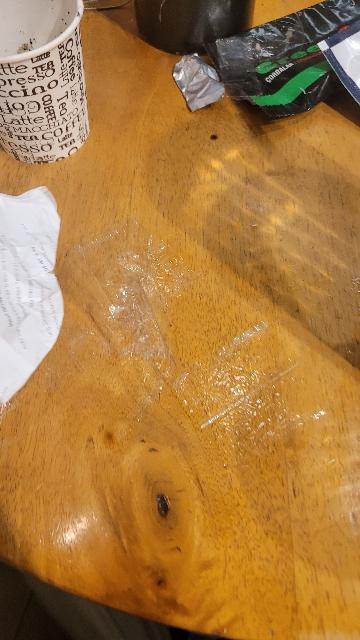Kagit: (0, 188, 71, 417), (0, 0, 91, 160)
Plastik: (216, 0, 360, 120)
